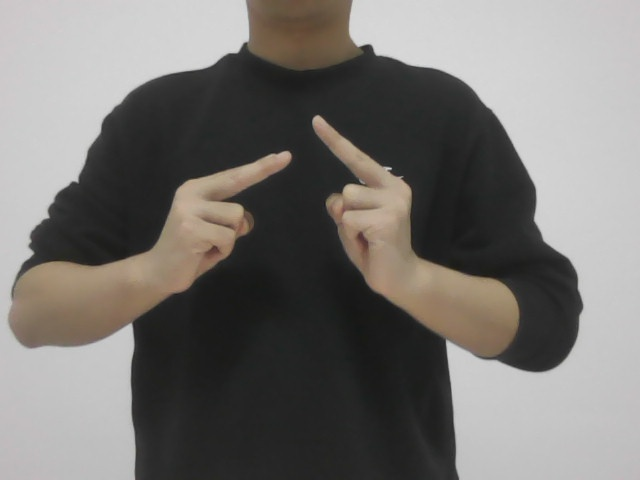know: (135, 96, 416, 311)
